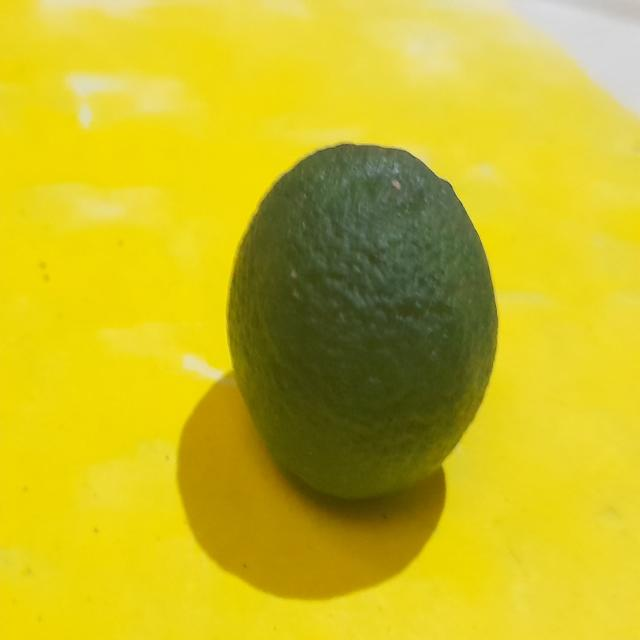heathy: (225, 139, 498, 501)
